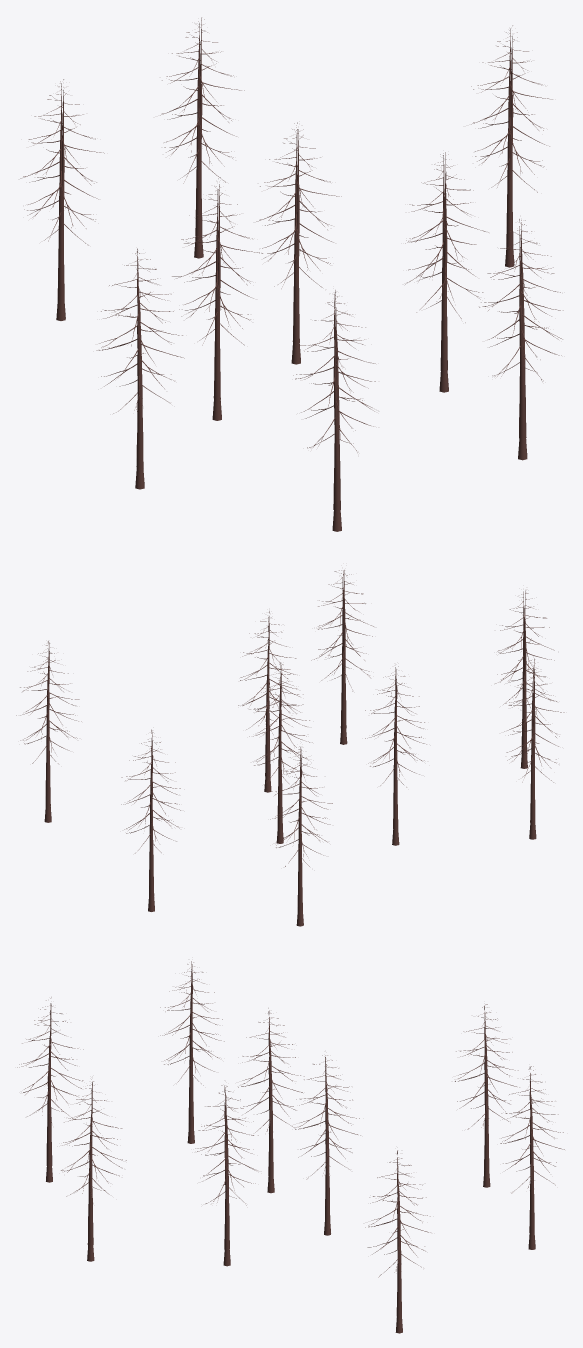
Rendered from Sugi.fbx.
3 views of the same model, one above another, from view 1: azimuth 30°, elevation 25°; view 2: azimuth 150°, elevation 25°; view 3: azimuth 270°, elevation 25° (orthographic). The views are drawn at different scales.
Parts seen in each view (by area): view 1: 杉の木7; view 2: 杉の木7; view 3: 杉の木7.
Boxes of the visible parts, x1=… form: 杉の木7: x1=20, y1=17, x2=563, y2=531; 杉の木7: x1=16, y1=570, x2=564, y2=926; 杉の木7: x1=17, y1=961, x2=564, y2=1333.
Bounding box in the file's own units: 124 × 49.39 × 133.
